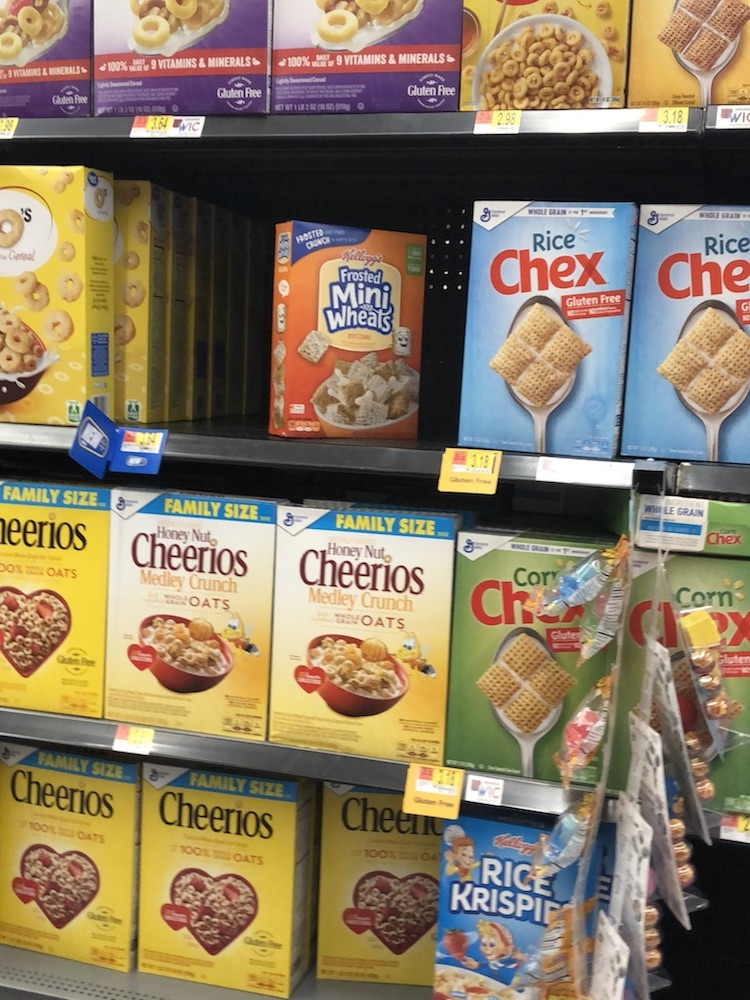Frosted Mini Original -9295869: (272, 223, 423, 434)
